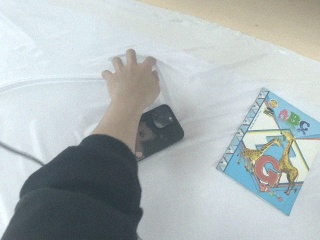book: (216, 87, 320, 216)
phone: (136, 104, 185, 162)
